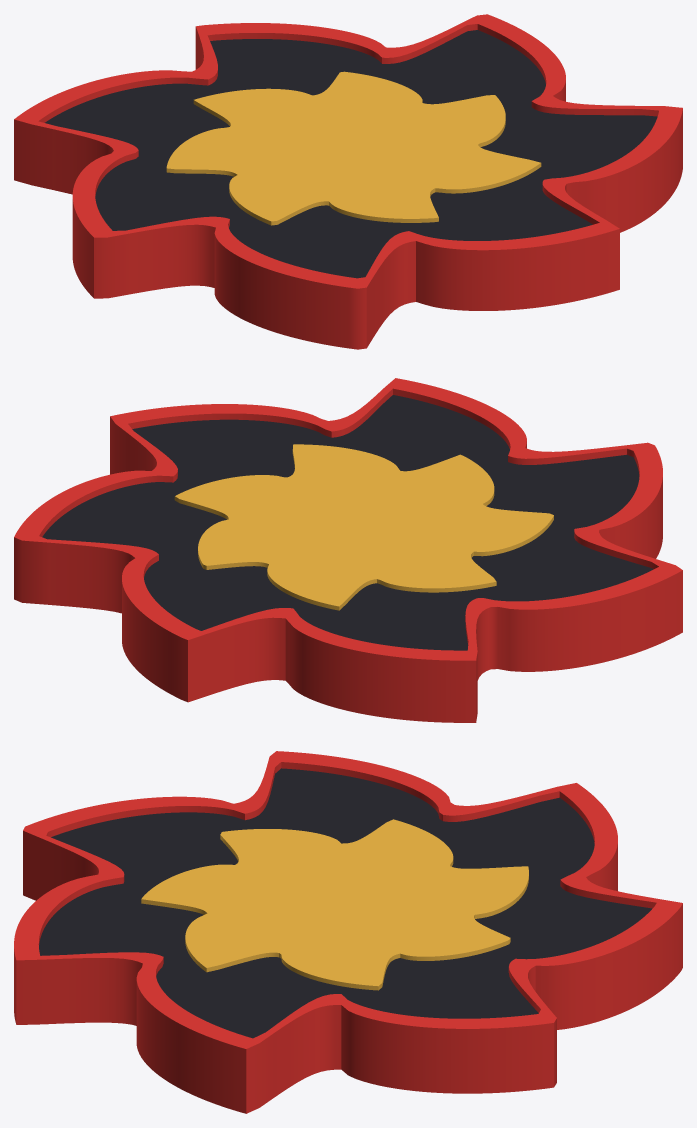
File: FlameGuard.fbx
3 views of the same model, one above another, from view 1: azimuth 30°, elevation 25°; view 2: azimuth 150°, elevation 25°; view 3: azimuth 270°, elevation 25° (orthographic). The views are drawn at different scales.
Visible parts, largest first — view 1: FlameRim, FlameCore, FlameInner; view 2: FlameRim, FlameCore, FlameInner; view 3: FlameRim, FlameCore, FlameInner.
Part boxes in pixels (x1,y1,x2,y2): FlameRim: [14, 14, 682, 349]; FlameCore: [45, 30, 657, 278]; FlameInner: [166, 71, 541, 225]; FlameRim: [14, 378, 682, 722]; FlameCore: [42, 395, 653, 650]; FlameInner: [174, 444, 553, 610]; FlameRim: [14, 751, 682, 1113]; FlameCore: [39, 768, 652, 1038]; FlameInner: [141, 819, 528, 990].
Bounding box in the file's own units: 0.5924 × 0.06 × 0.5619.
